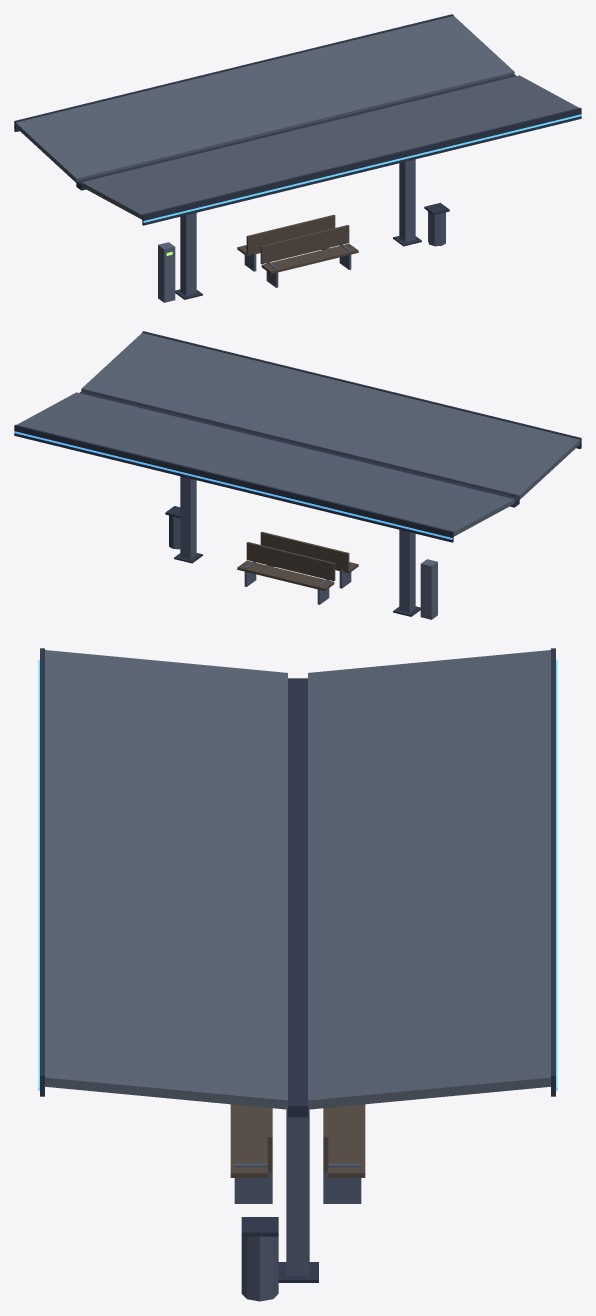
File: rail_platform_canopy.glb
3 views of the same model, one above another, from view 1: azimuth 30°, elevation 25°; view 2: azimuth 150°, elevation 25°; view 3: azimuth 270°, elevation 25° (orthographic). The views are drawn at different scales.
Visible parts, largest first — view 1: roof, trim, bench, column, led_line, help_point; view 2: roof, trim, bench, column, led_line, help_point; view 3: roof, trim, column, bench, led_line.
Part boxes in pixels (bbox=[...]): roof: bbox=[15, 16, 578, 219]; trim: bbox=[14, 14, 581, 299]; bench: bbox=[237, 215, 358, 273]; column: bbox=[180, 159, 445, 295]; led_line: bbox=[14, 114, 581, 222]; help_point: bbox=[158, 242, 175, 302]; roof: bbox=[17, 333, 580, 536]; trim: bbox=[14, 331, 581, 616]; bench: bbox=[237, 532, 358, 590]; column: bbox=[169, 476, 415, 612]; led_line: bbox=[14, 431, 581, 539]; help_point: bbox=[420, 559, 437, 619]; roof: bbox=[45, 650, 550, 1109]; trim: bbox=[40, 648, 555, 1282]; column: bbox=[234, 1109, 361, 1301]; bench: bbox=[230, 1104, 365, 1177]; led_line: bbox=[38, 660, 557, 1090].
Size of the model in its own units: 12 by 3.99 by 6.16.
